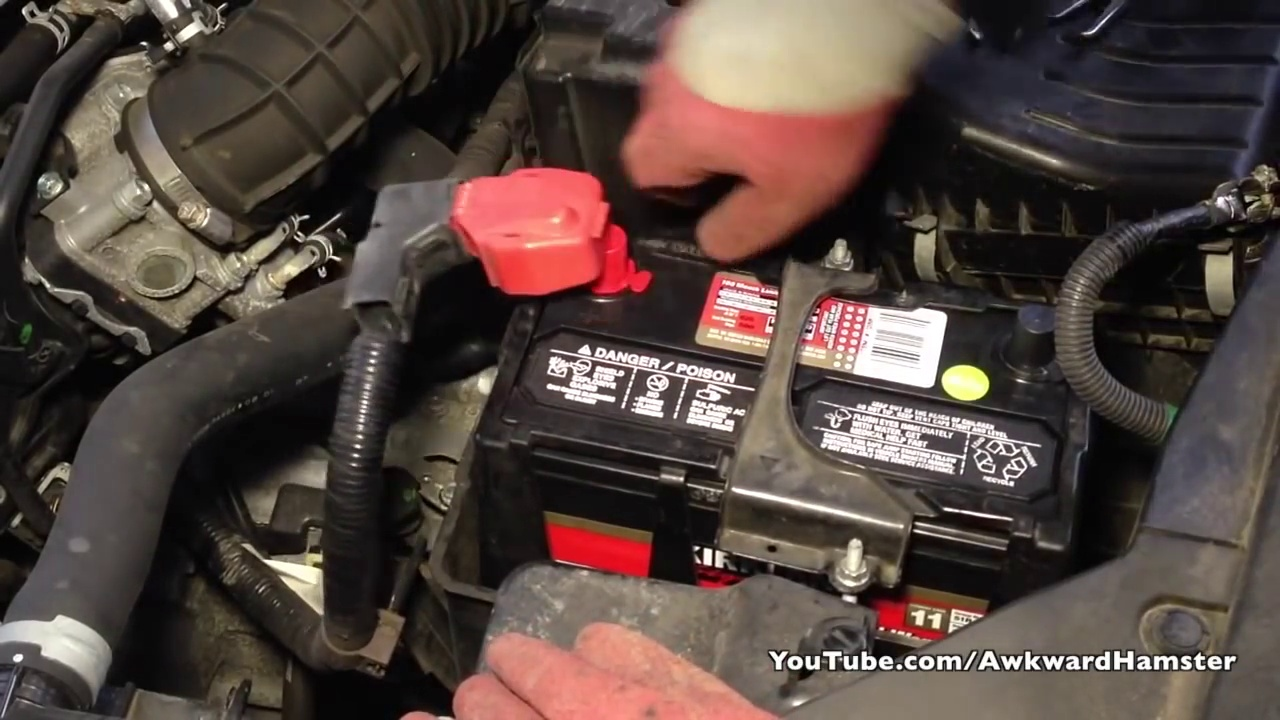battery: (471, 191, 1085, 552)
pos_connected: (435, 146, 629, 307)
